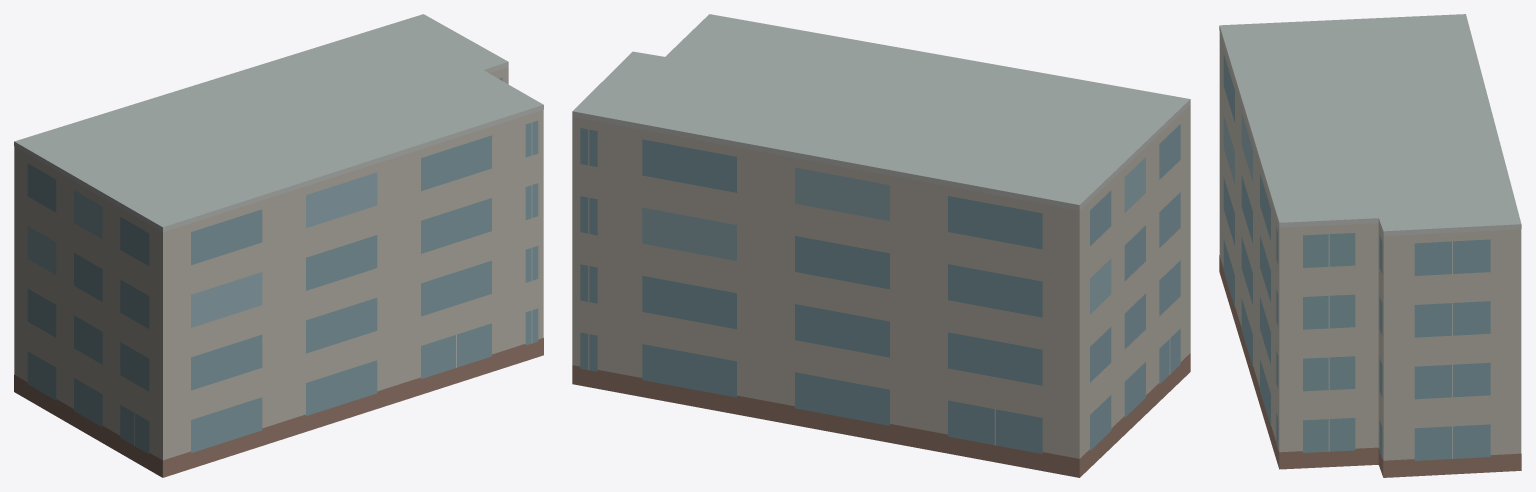
File: survey-upis-32776907.glb
3 views of the same model, side by side, from view 1: azimuth 30°, elevation 25°; view 2: azimuth 150°, elevation 25°; view 3: azimuth 270°, elevation 25° (orthographic). The views are drawn at different scales.
Visible parts, largest first — view 1: survey-upis-32776907.tmp; view 2: survey-upis-32776907.tmp; view 3: survey-upis-32776907.tmp.
Part boxes in pixels (<box>): survey-upis-32776907.tmp: <box>14,14,543,477</box>; survey-upis-32776907.tmp: <box>572,14,1190,477</box>; survey-upis-32776907.tmp: <box>1219,14,1521,477</box>.
Bounding box in the file's own units: 23.25 × 12.3 × 13.66.
